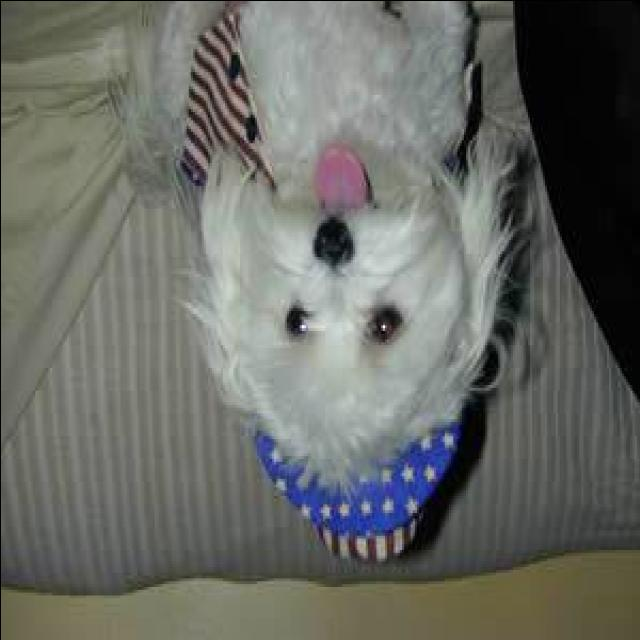maltese_dog: (184, 2, 536, 486)
